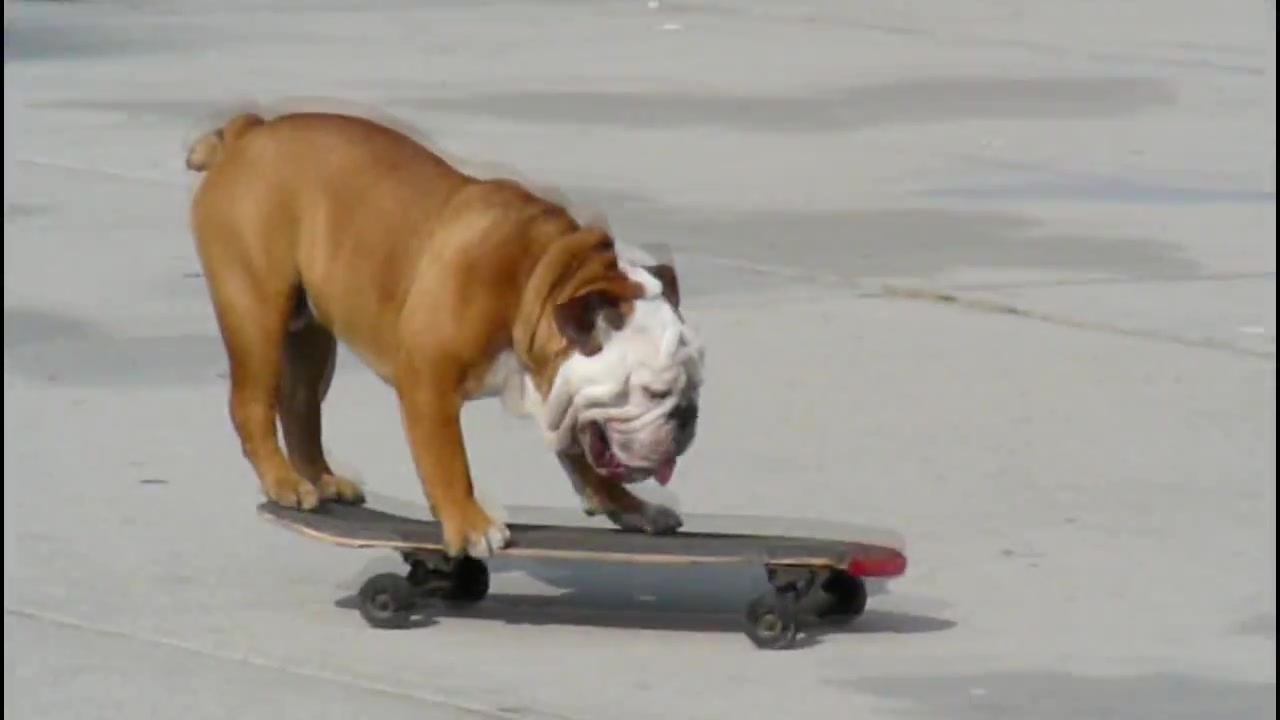dog: (178, 105, 702, 562)
